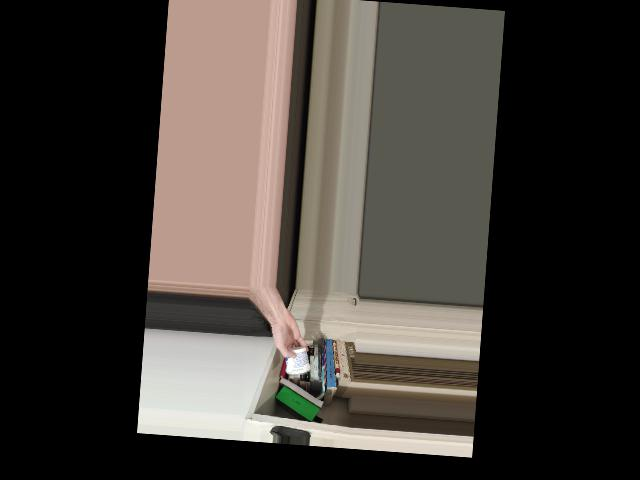cotage: (280, 338, 313, 377)
